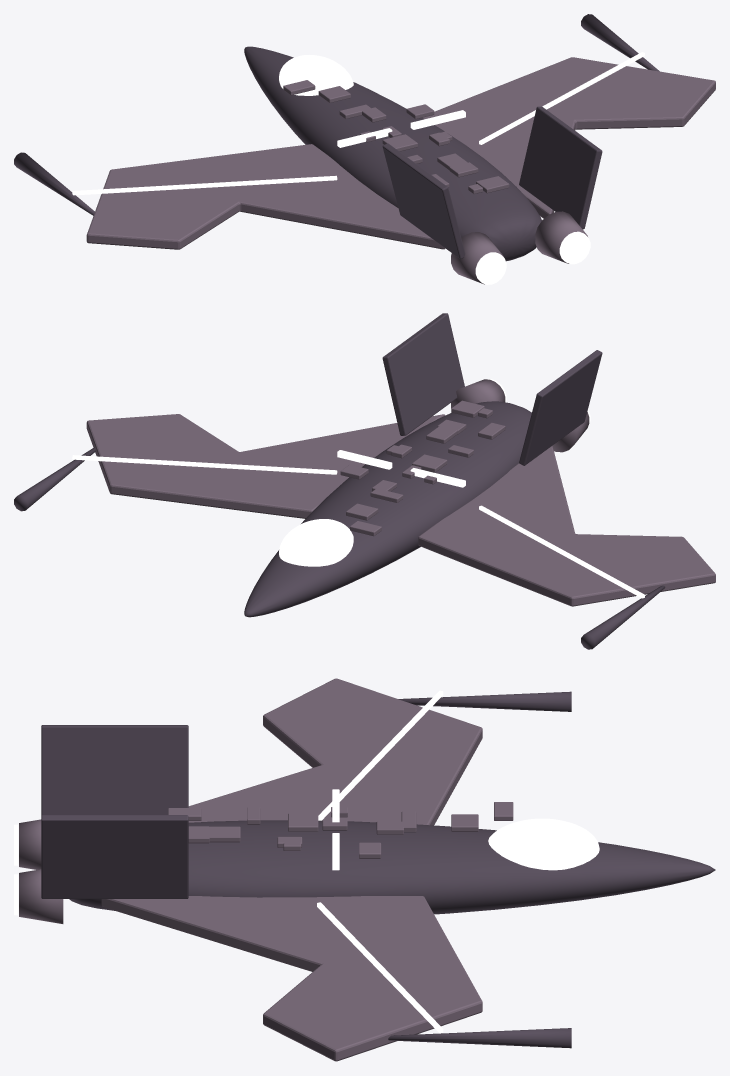
File: enemy.fbx
3 views of the same model, one above another, from view 1: azimuth 30°, elevation 25°; view 2: azimuth 150°, elevation 25°; view 3: azimuth 270°, elevation 25° (orthographic). The views are drawn at different scales.
Parts seen in each view (by area): view 1: sickle, body, fin.001, fin, eye, exhaust.001, edge, exhaust, spike, spike.001, edge.001, exhaust_glow.001 (+2 smaller); view 2: sickle, body, fin.001, fin, eye, edge.001, spike, spike.001, edge, exhaust.001; view 3: sickle, body, fin, fin.001, eye, spike.001, spike, exhaust.001, edge.001, exhaust, edge.
Boxes of the visible parts, x1,y1,x2,y2 form: sickle: (86,57,715,249); body: (244,46,541,261); fin.001: (519,106,602,229); fin: (382,143,465,259); eye: (279,55,353,95); exhaust.001: (535,211,587,263); edge: (72,175,337,195); exhaust: (451,232,503,284); spike: (14,152,94,215); spike.001: (581,14,659,71); edge.001: (479,52,644,144); exhaust_glow.001: (559,231,590,264); sickle: (86,414,715,606); body: (244,401,531,617); fin.001: (382,313,464,435); fin: (519,350,602,465); eye: (279,519,353,566); edge.001: (72,455,337,474); spike: (581,585,665,649); spike.001: (14,447,95,511); edge: (479,505,644,598); exhaust.001: (451,379,505,408); sickle: (101,678,482,1061); body: (69,820,715,914); fin: (41,725,188,815); fin.001: (41,815,188,898); eye: (488,818,599,870); spike.001: (388,1028,571,1048); spike: (398,691,571,711); exhaust.001: (19,869,63,923); edge.001: (317,902,443,1033); exhaust: (19,819,41,869); edge: (318,690,443,820).
Size of the model in its own units: 599 by 100 by 476.
